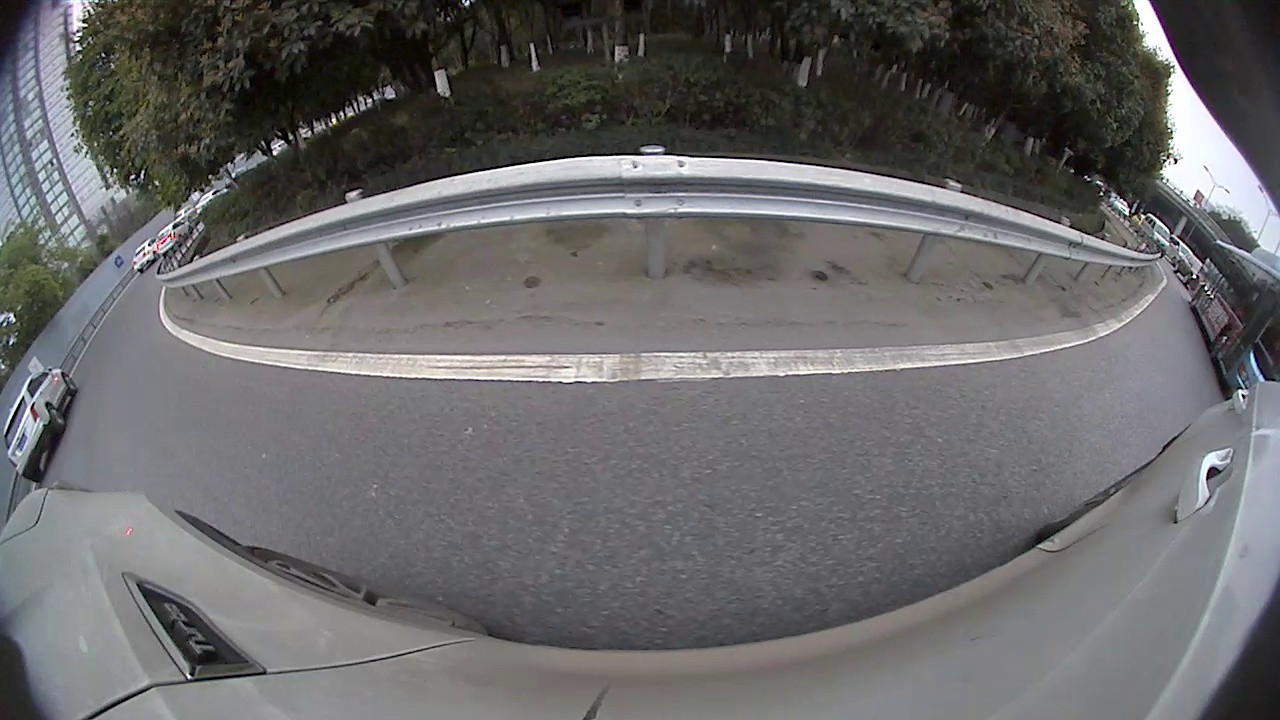bus: (1186, 235, 1279, 404)
car: (1, 364, 81, 482), (153, 212, 196, 262), (1139, 214, 1173, 257), (129, 233, 159, 278)
front: (1208, 327, 1233, 359), (61, 374, 82, 395)
rear: (46, 405, 68, 433)
